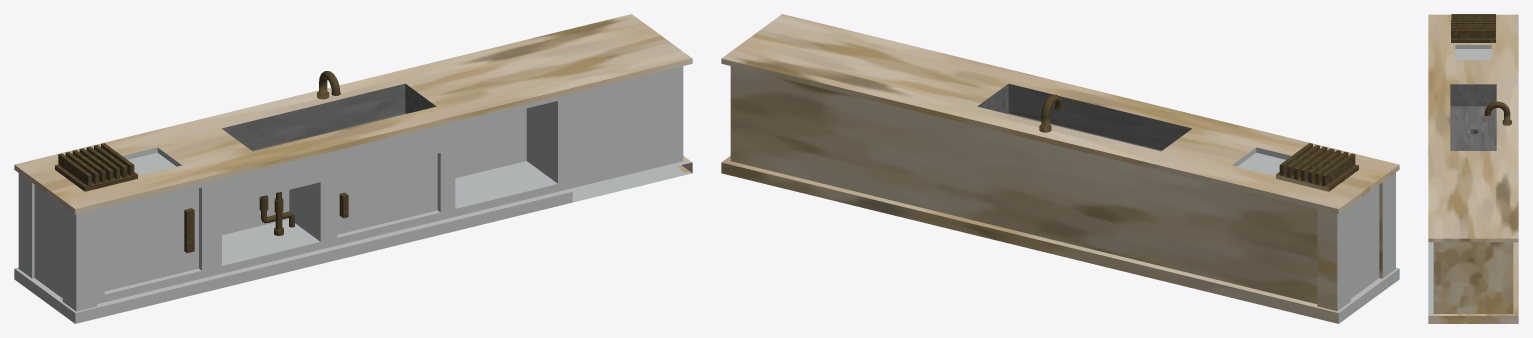
Rendered from kitchen_countertop 1.fbx.
3 views of the same model, side by side, from view 1: azimuth 30°, elevation 25°; view 2: azimuth 150°, elevation 25°; view 3: azimuth 270°, elevation 25° (orthographic). The views are drawn at different scales.
Parts seen in each view (by area): view 1: Cube, Cube.005, Cube.057; view 2: Cube, Cube.005, Cube.057; view 3: Cube, Cube.005, Cube.057.
Part boxes in pixels (x1=…): Cube: x1=14, y1=14, x2=692, y2=323; Cube.005: x1=55, y1=143, x2=137, y2=191; Cube.057: x1=259, y1=71, x2=340, y2=235; Cube: x1=721, y1=14, x2=1399, y2=323; Cube.005: x1=1276, y1=143, x2=1358, y2=191; Cube.057: x1=1039, y1=94, x2=1062, y2=132; Cube: x1=1428, y1=14, x2=1518, y2=323; Cube.005: x1=1451, y1=14, x2=1495, y2=42; Cube.057: x1=1484, y1=101, x2=1511, y2=125.
Bounding box in the file's own units: 1235 × 276 × 211.
